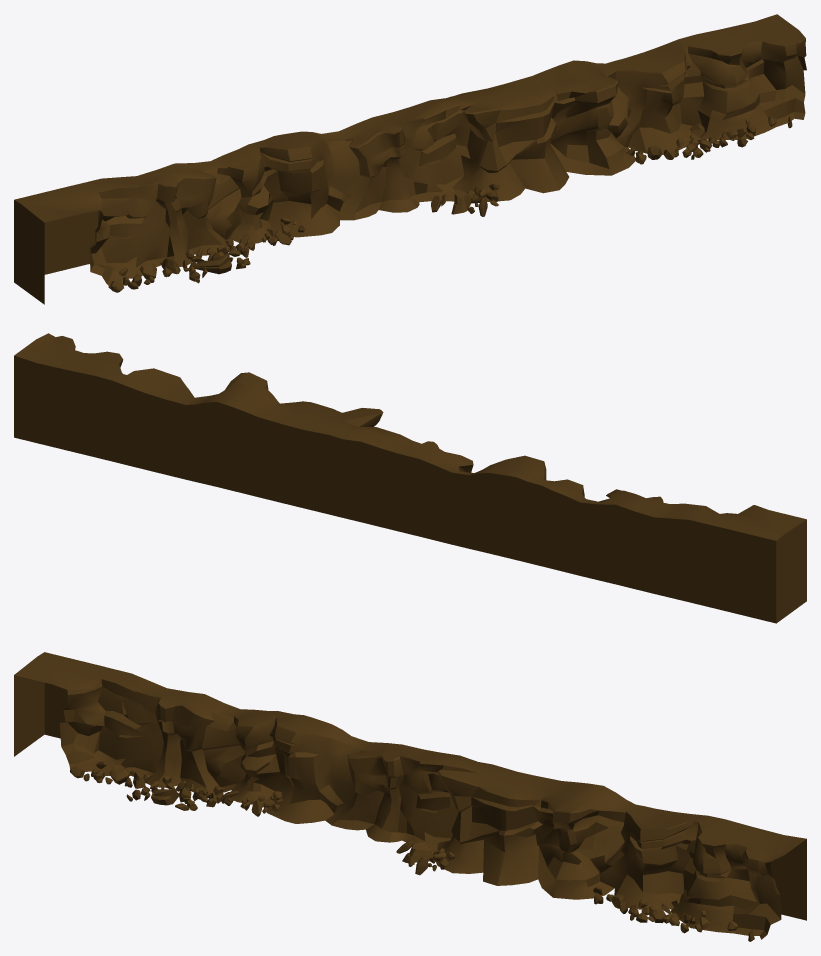
The model's file is Muro.obj.
3 renders of one model, top to bottom at view 1: azimuth 30°, elevation 25°; view 2: azimuth 150°, elevation 25°; view 3: azimuth 330°, elevation 25°, orthographic.
Parts seen in each view (by area): view 1: Cliff_Mesh.001; view 2: Cliff_Mesh.001; view 3: Cliff_Mesh.001.
Part boxes in pixels (box(x1,y1,x2,y2)): Cliff_Mesh.001: box(14, 14, 806, 304); Cliff_Mesh.001: box(14, 333, 806, 623); Cliff_Mesh.001: box(14, 652, 806, 941).
Bounding box in the file's own units: 103 × 11.9 × 11.63.
